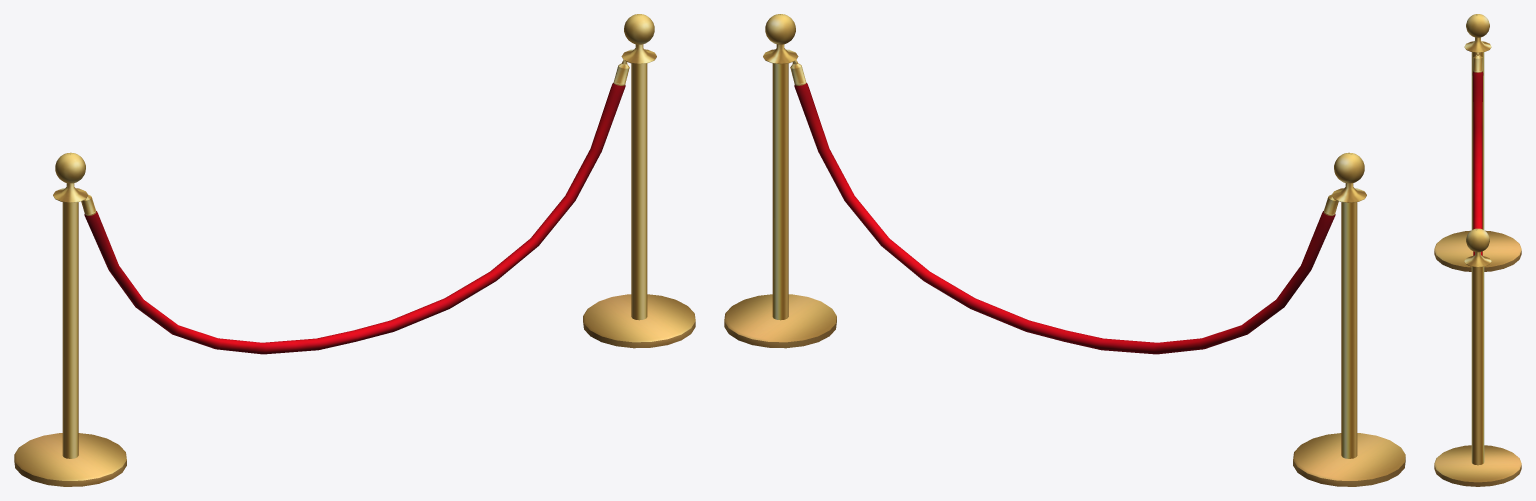
The model's file is Concierge_post.glb.
The picture shows the model from 3 angles, left to right: view 1: azimuth 30°, elevation 25°; view 2: azimuth 150°, elevation 25°; view 3: azimuth 270°, elevation 25°; orthographic projection. The views are drawn at different scales.
Visible parts, largest first — view 1: Cylinder001; view 2: Cylinder001; view 3: Cylinder001.
Part boxes in pixels (<box>): Cylinder001: <box>14,14,695,486</box>; Cylinder001: <box>724,14,1405,486</box>; Cylinder001: <box>1434,14,1521,486</box>.
Size of the model in its own units: 2.7 by 1.19 by 0.3969.
1 material, 1 textured.
